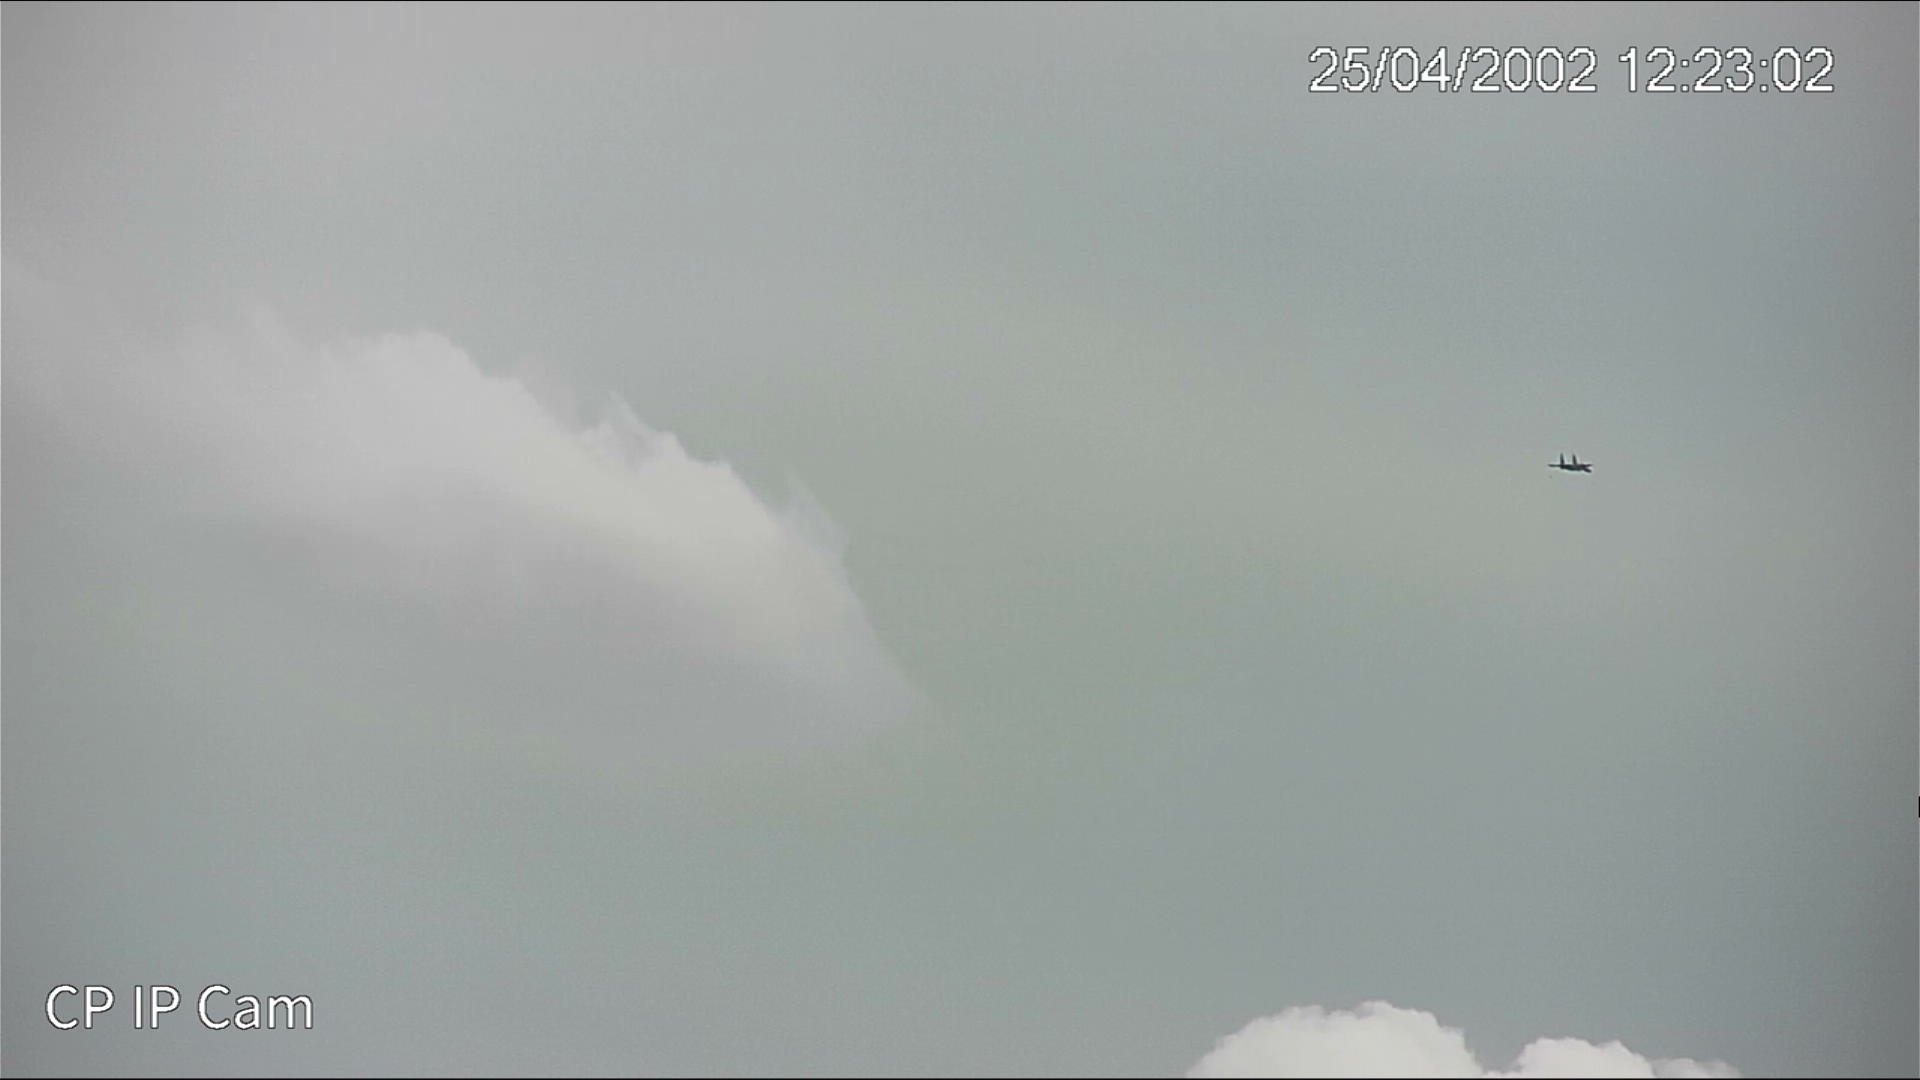SU_30: (1548, 451, 1596, 477)
